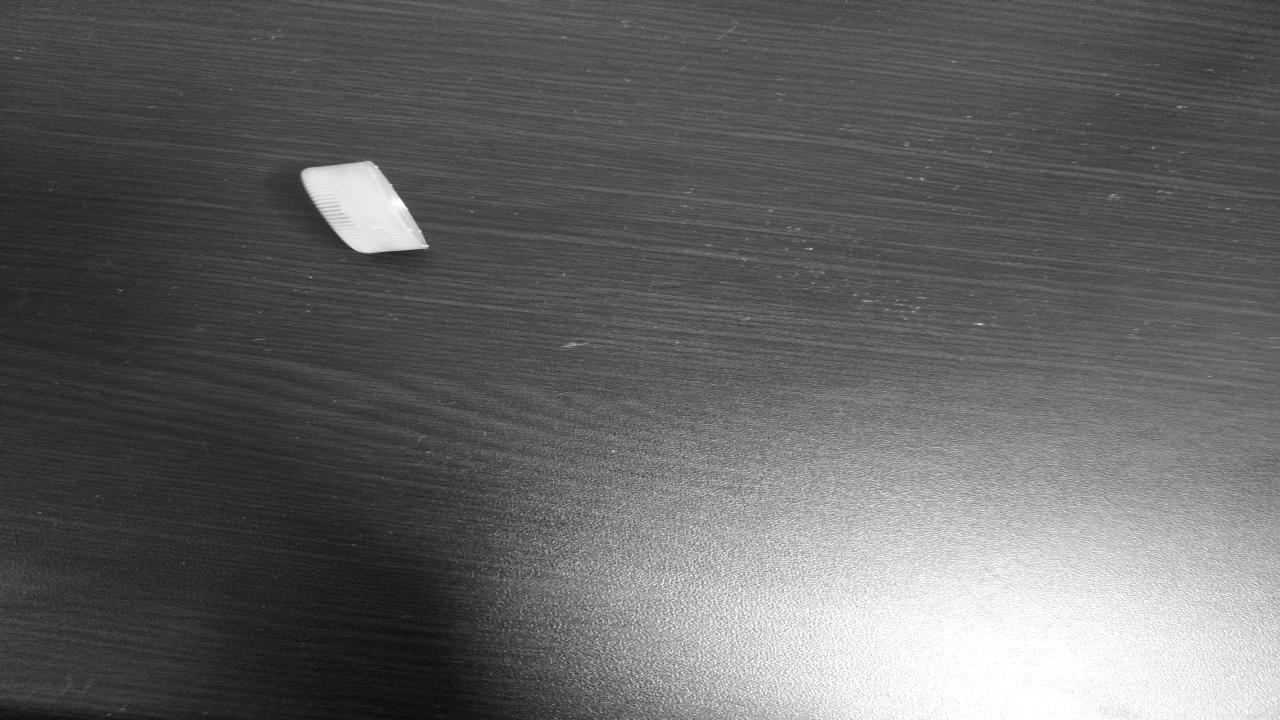bottle_cap: (299, 160, 431, 254)
